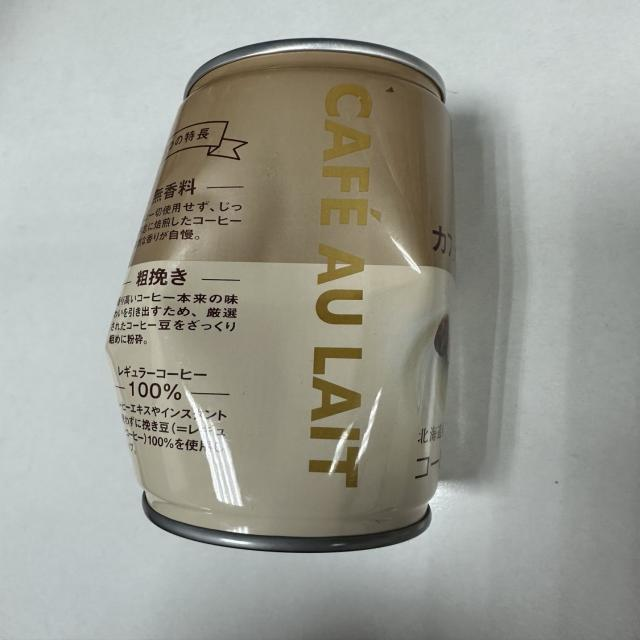Can: (112, 36, 452, 550)
